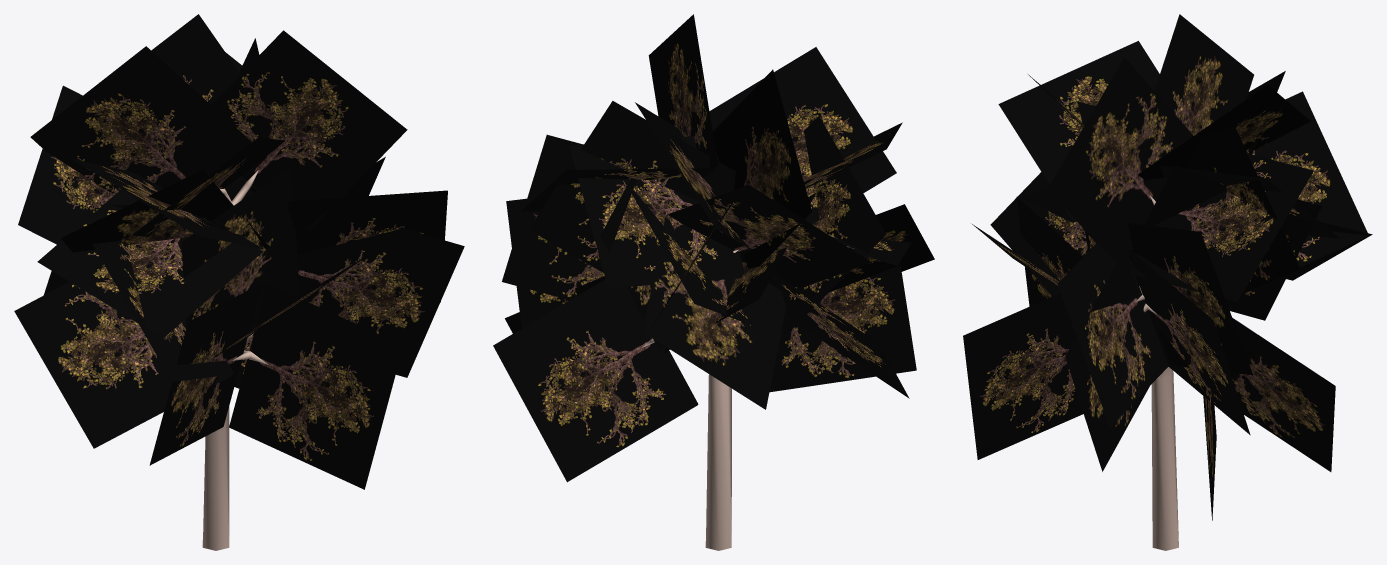
Rendered from tree11.glb.
3 views of the same model, side by side, from view 1: azimuth 30°, elevation 25°; view 2: azimuth 150°, elevation 25°; view 3: azimuth 270°, elevation 25° (orthographic). The views are drawn at different scales.
Bounding box in the file's own units: 5.46 × 7.09 × 5.17.
Materials: 2 (1 with a texture image).
